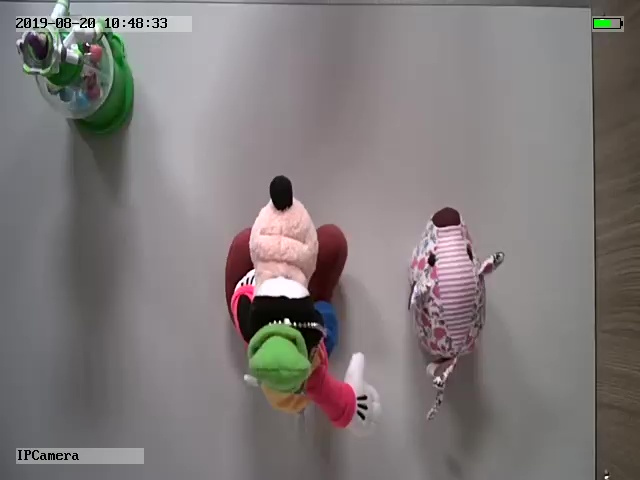buzz: (11, 3, 135, 127)
goofy: (221, 172, 385, 436)
pig: (405, 207, 506, 423)
